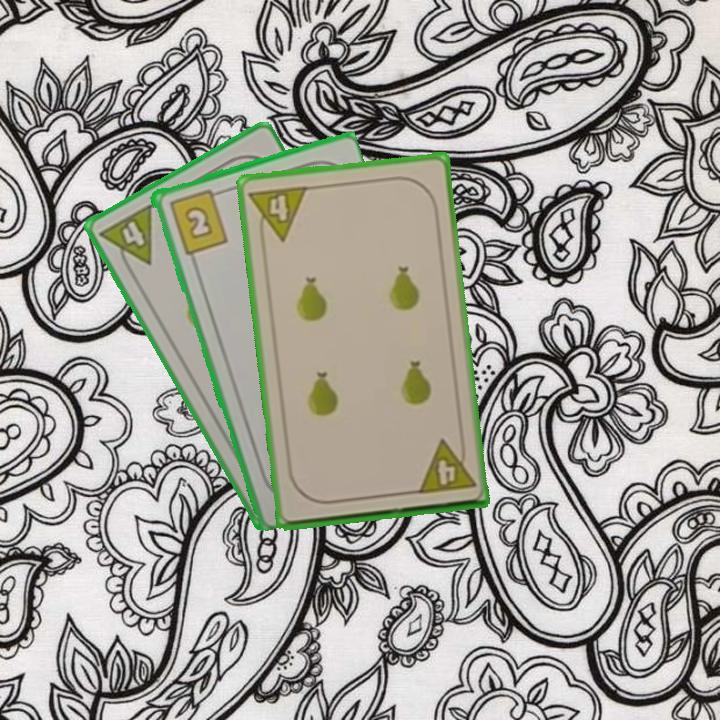2b: (165, 185, 230, 257)
4p: (96, 200, 155, 278), (246, 182, 311, 246), (413, 435, 478, 497)
